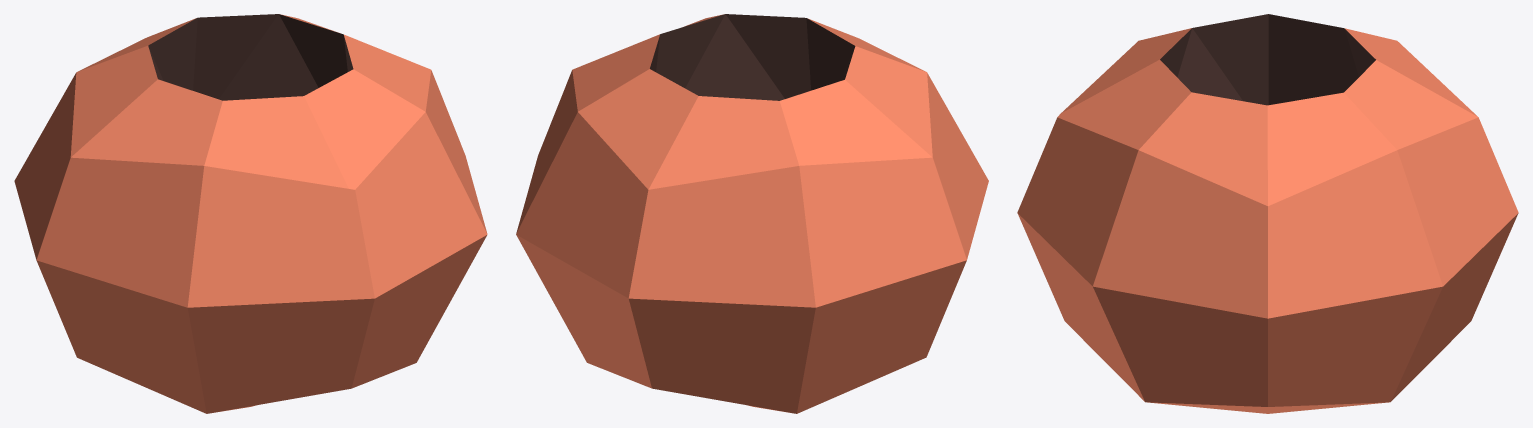
Rendered from Coral_030.glb.
3 views of the same model, side by side, from view 1: azimuth 30°, elevation 25°; view 2: azimuth 150°, elevation 25°; view 3: azimuth 270°, elevation 25° (orthographic).
Parts seen in each view (by area): view 1: Coral_030; view 2: Coral_030; view 3: Coral_030.
Boxes of the visible parts, x1,y1,x2,y2 form: Coral_030: [14, 14, 487, 413]; Coral_030: [516, 14, 988, 413]; Coral_030: [1017, 14, 1518, 413].
Bounding box in the file's own units: 0.254 × 0.198 × 0.254.
Materials: 1 (1 with a texture image).
